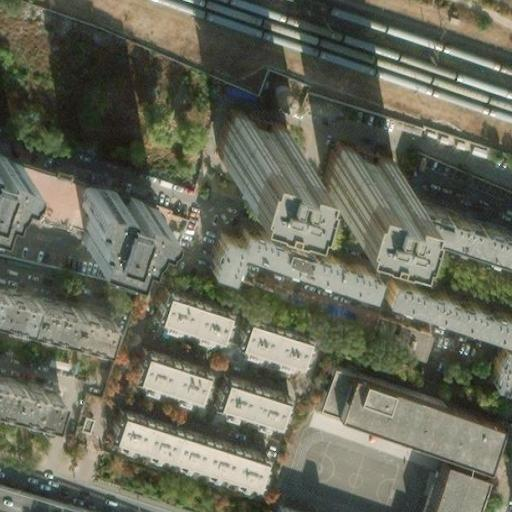building: (232, 225, 512, 344), (334, 375, 495, 467), (104, 409, 259, 487), (313, 365, 496, 423), (400, 199, 512, 257), (0, 164, 88, 231), (262, 277, 369, 330), (77, 182, 157, 250), (21, 291, 108, 344), (218, 376, 299, 432), (314, 139, 386, 199), (211, 108, 280, 169), (148, 291, 223, 347), (124, 343, 200, 396), (232, 318, 305, 371), (360, 310, 431, 357), (421, 464, 480, 512), (119, 208, 169, 253), (203, 226, 238, 277), (486, 339, 512, 381)
